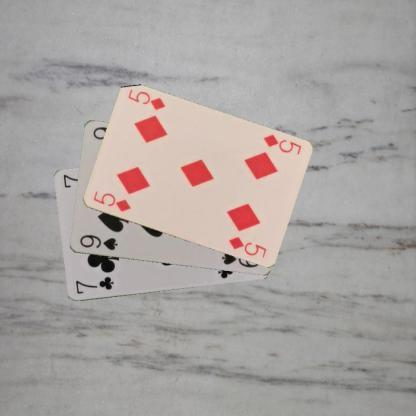5d: (90, 188, 132, 214), (260, 132, 302, 156)
7c: (72, 274, 115, 296)
9s: (76, 232, 118, 252)
